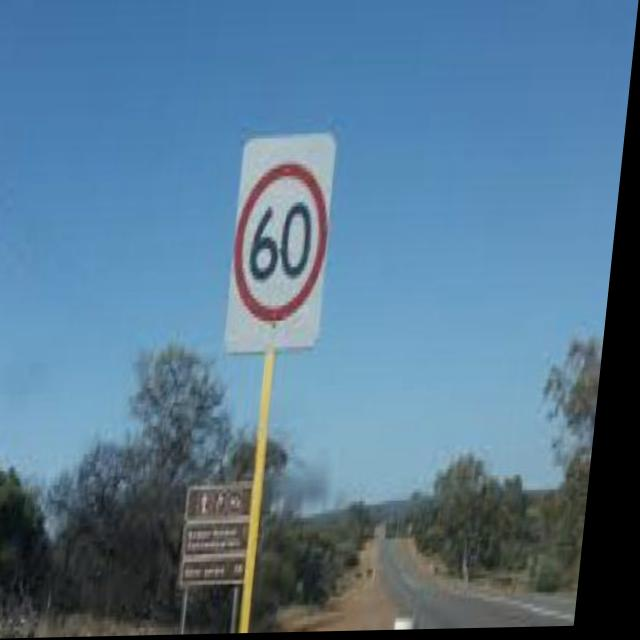limit60: (227, 158, 345, 325)
